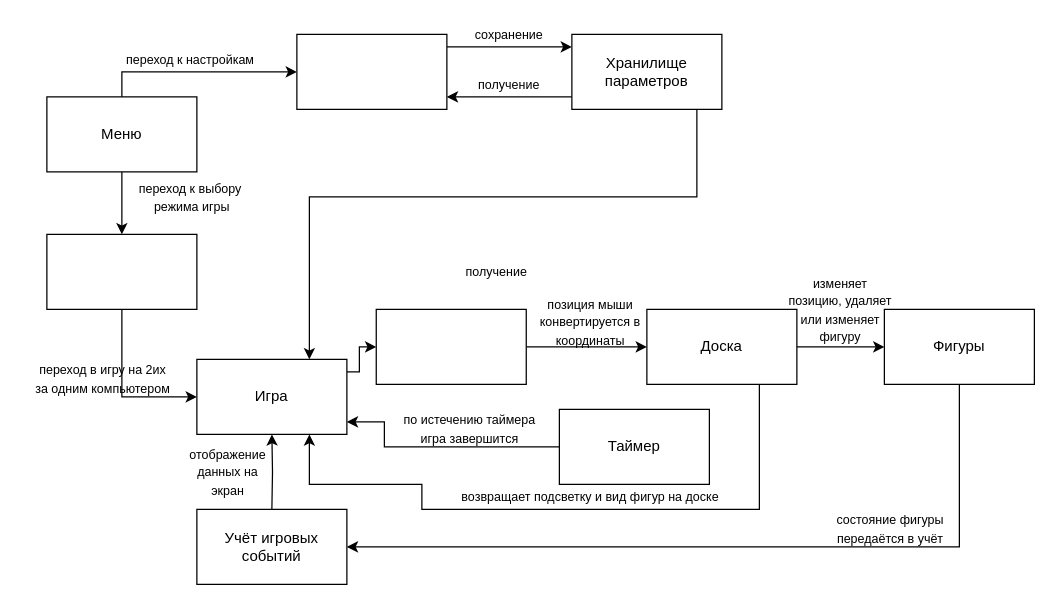
This 1056x606 diagram has some shape labels left out. The box of each missing label's shape, as (x1, y1, x2, y2) in pixels:
Меню выбора режима игры: (46, 233, 197, 309)
Настройки: (296, 33, 447, 109)
Обработчик событий: (375, 308, 526, 384)
